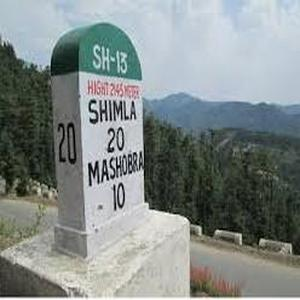kmstone: (42, 17, 154, 251)
